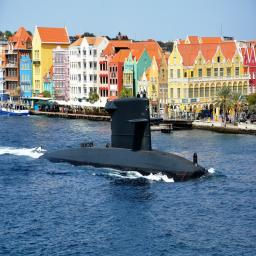submarine: (33, 97, 211, 183)
